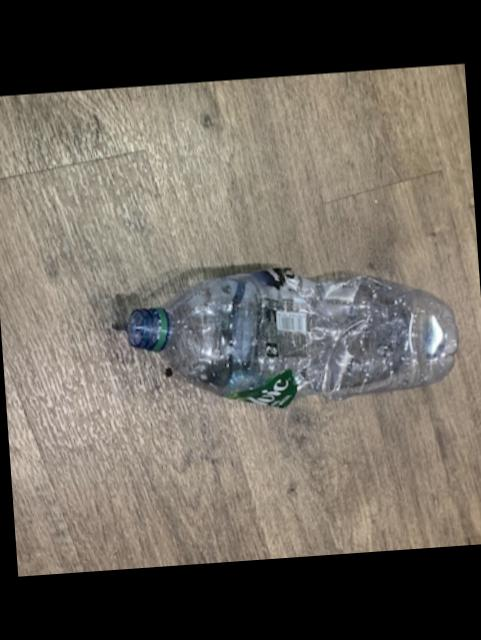plastic: (127, 266, 457, 405)
